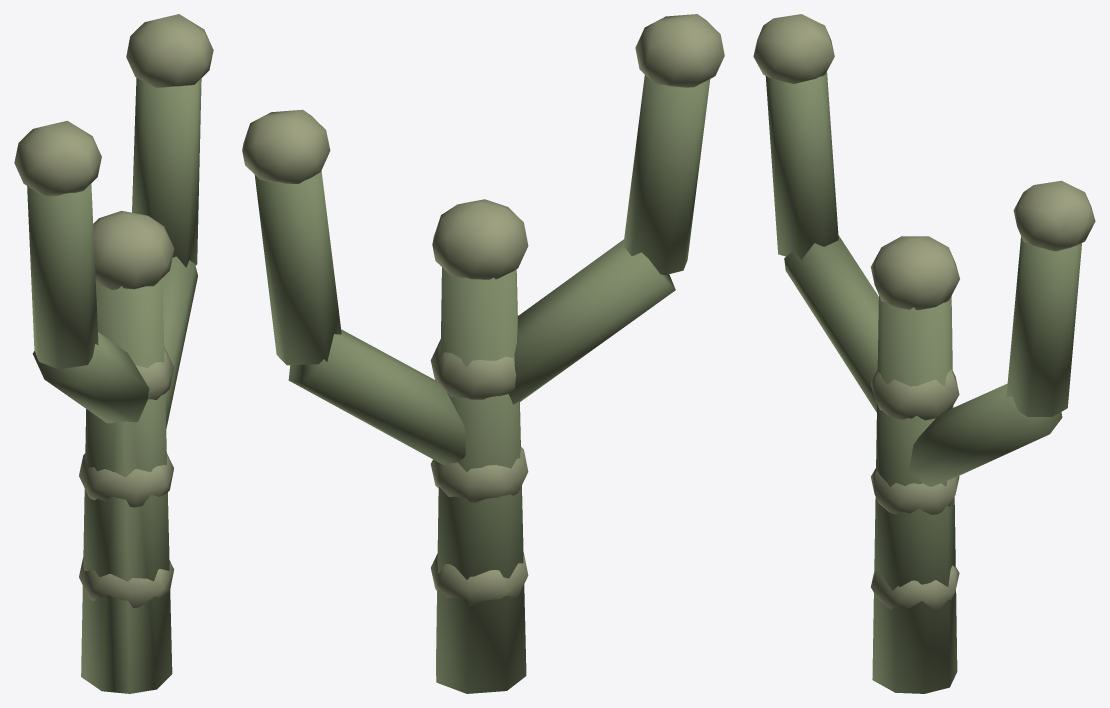
Rendered from cholla_a_lod1.glb.
3 renders of one model, left to right at view 1: azimuth 30°, elevation 25°; view 2: azimuth 150°, elevation 25°; view 3: azimuth 270°, elevation 25°, orthographic. The views are drawn at different scales.
Parts seen in each view (by area): view 1: Surface.001; view 2: Surface.001; view 3: Surface.001.
Part boxes in pixels (x1,y1,x2,y2): Surface.001: (14, 14, 213, 693); Surface.001: (242, 14, 724, 693); Surface.001: (753, 14, 1095, 693).
Bounding box in the file's own units: 1.13 × 2.09 × 1.09.
